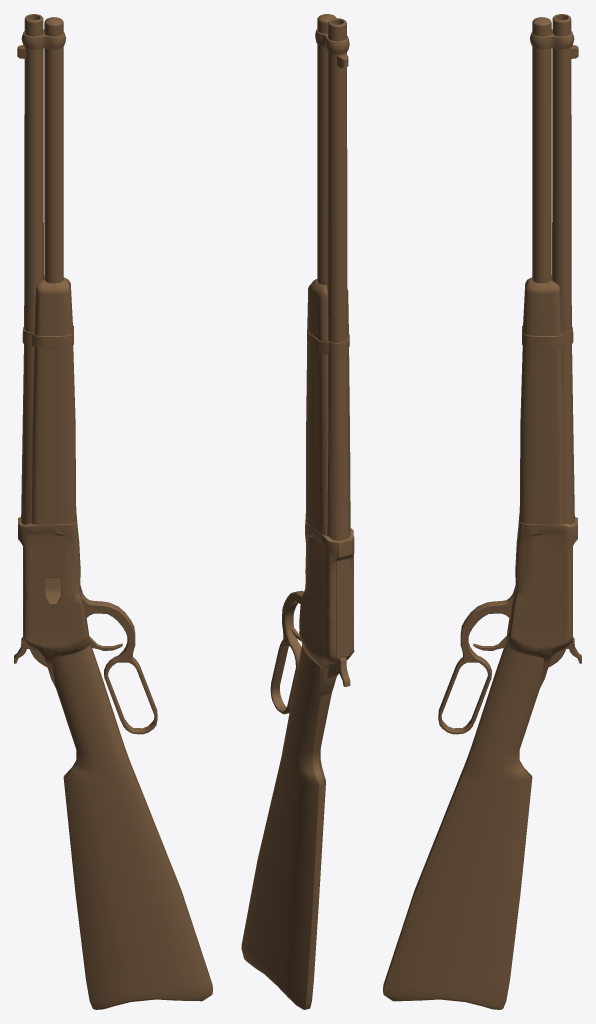
Rendered from rifle-normalized.fbx.
3 views of the same model, side by side, from view 1: azimuth 90°, elevation 25°; view 2: azimuth 210°, elevation 25°; view 3: azimuth 270°, elevation 25° (orthographic).
Visible parts, largest first — view 1: crosse, corp, cadre, canon, chargeur, levier, orne, orne1; view 2: crosse, canon, cadre, corp, chargeur, levier, culasse, orne, chien, orne1; view 3: crosse, corp, cadre, canon, chargeur, levier, orne, orne1.
Boxes of the visible parts, left/top/right/bottom form: crosse: left=52, top=645, right=212, bottom=1009; corp: left=32, top=275, right=76, bottom=524; cadre: left=18, top=513, right=89, bottom=689; canon: left=21, top=14, right=43, bottom=524; chargeur: left=44, top=17, right=63, bottom=283; levier: left=81, top=592, right=157, bottom=734; orne: left=21, top=29, right=65, bottom=49; orne1: left=32, top=325, right=73, bottom=348; crosse: left=241, top=644, right=331, bottom=1009; canon: left=327, top=18, right=350, bottom=540; cadre: left=299, top=520, right=354, bottom=697; corp: left=305, top=279, right=350, bottom=535; chargeur: left=317, top=14, right=336, bottom=285; levier: left=270, top=591, right=303, bottom=714; culasse: left=334, top=558, right=348, bottom=663; orne: left=315, top=29, right=349, bottom=54; chien: left=327, top=657, right=350, bottom=686; orne1: left=307, top=329, right=349, bottom=354; crosse: left=383, top=645, right=543, bottom=1009; corp: left=519, top=275, right=563, bottom=524; cadre: left=506, top=513, right=577, bottom=689; canon: left=552, top=14, right=574, bottom=524; chargeur: left=532, top=17, right=551, bottom=283; levier: left=438, top=592, right=514, bottom=734; orne: left=530, top=29, right=574, bottom=49; orne1: left=522, top=325, right=563, bottom=348.
Size of the model in its own units: 0.0318 by 1.01 by 0.1836.
